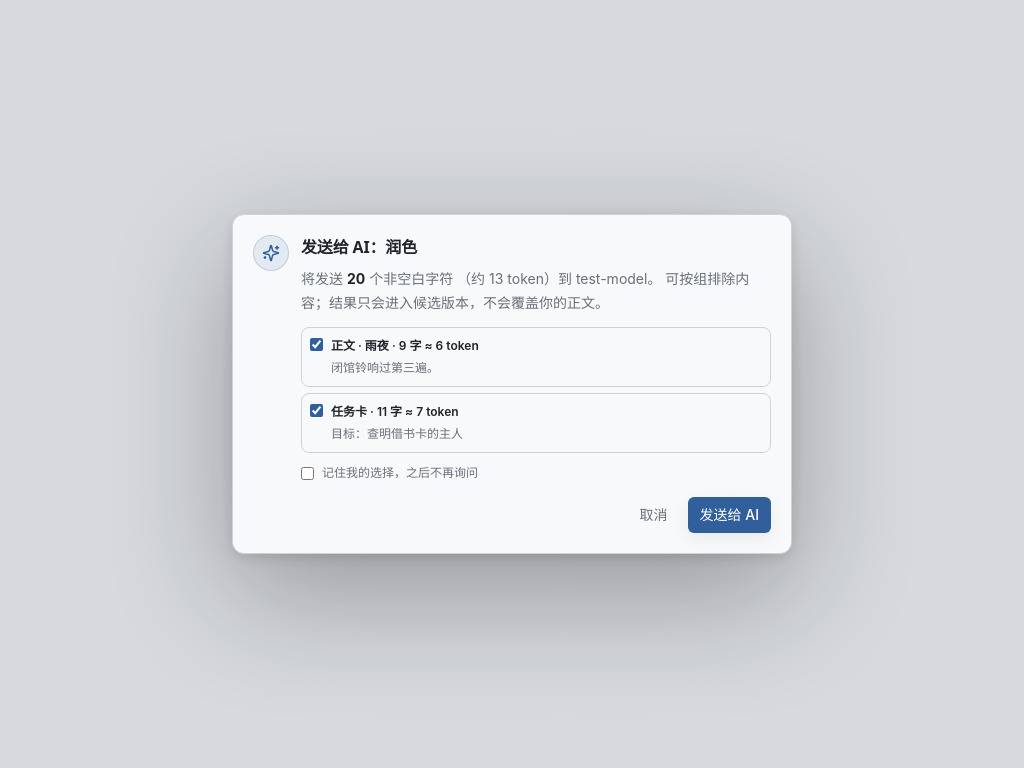
AiSendConfirmDialog 分组模式（D-C2 全量） › 全部组排除时发送按钮禁用
Click the checkbox labelled "正文 · 雨夜 · 9 字 ≈ 6 token 闭馆铃响过第三遍。" at (316, 344), box 310,338 -> 323,351
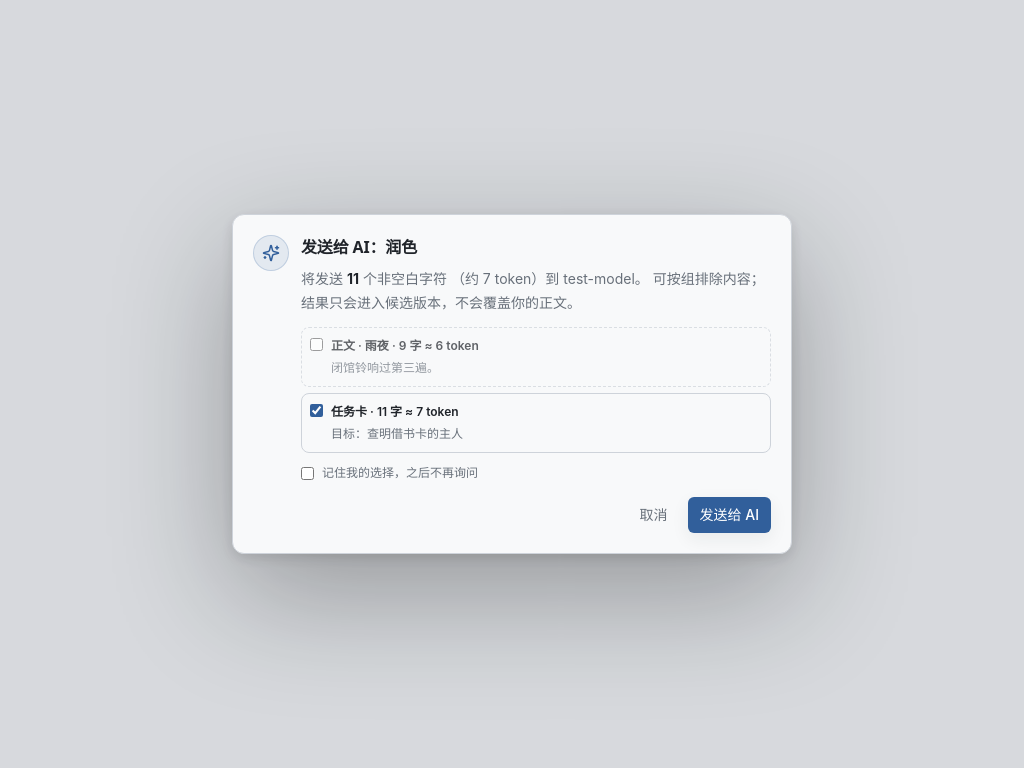
Click the checkbox named "包含 任务卡" at (316, 410), box 310,404 -> 323,417
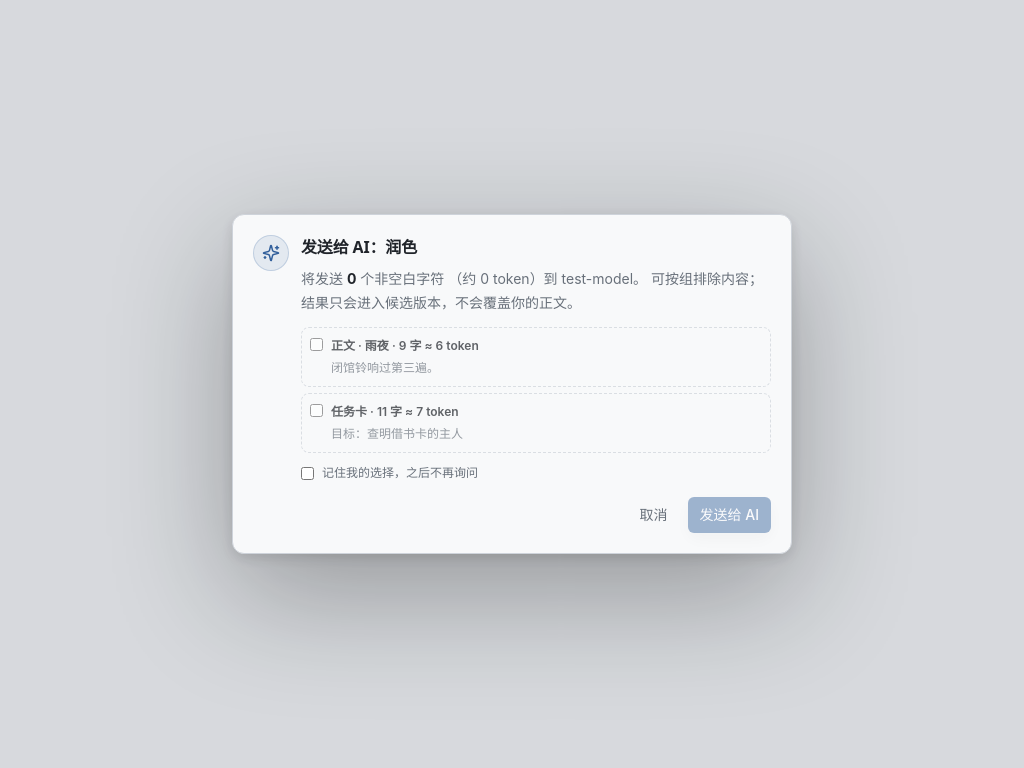
Expected: the button with test id "ai-send-confirm-go" is disabled, 688,497 -> 771,533
